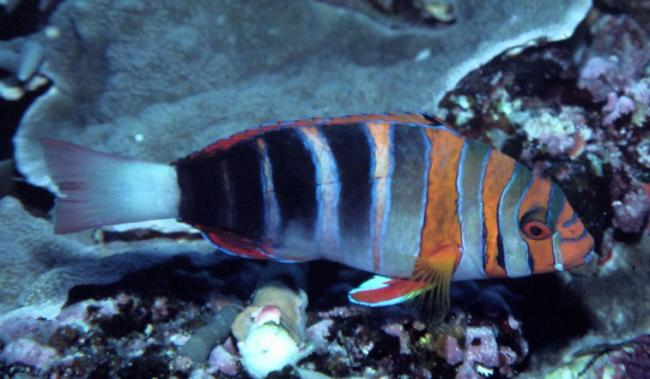fish: (38, 112, 595, 305)
